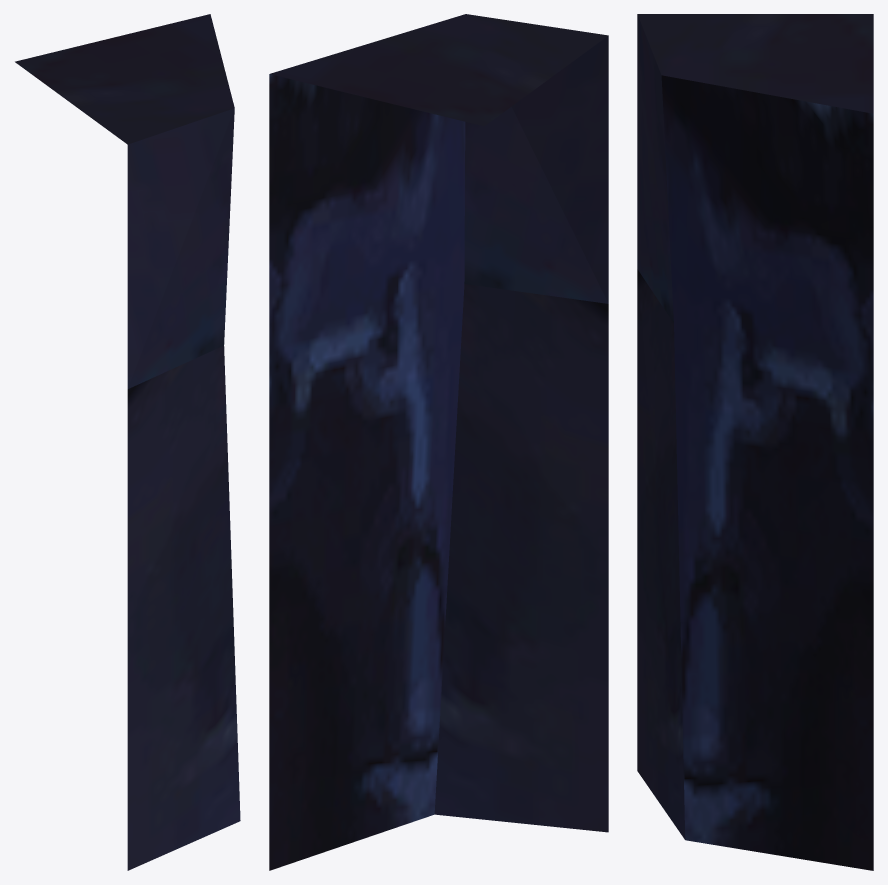
Rendered from palace_quarter_convex_02.fbx.
3 renders of one model, left to right at view 1: azimuth 30°, elevation 25°; view 2: azimuth 150°, elevation 25°; view 3: azimuth 270°, elevation 25°, orthographic. The views are drawn at different scales.
Parts seen in each view (by area): view 1: palace_tileset/palace_wall_straight01_mat; view 2: palace_tileset/palace_wall_straight01_mat; view 3: palace_tileset/palace_wall_straight01_mat.
Boxes of the visible parts, left/top/right/bottom form: palace_tileset/palace_wall_straight01_mat: left=15, top=14, right=240, bottom=870; palace_tileset/palace_wall_straight01_mat: left=269, top=14, right=608, bottom=870; palace_tileset/palace_wall_straight01_mat: left=637, top=14, right=873, bottom=870.
Size of the model in its own units: 0.393 by 1.39 by 0.393.
